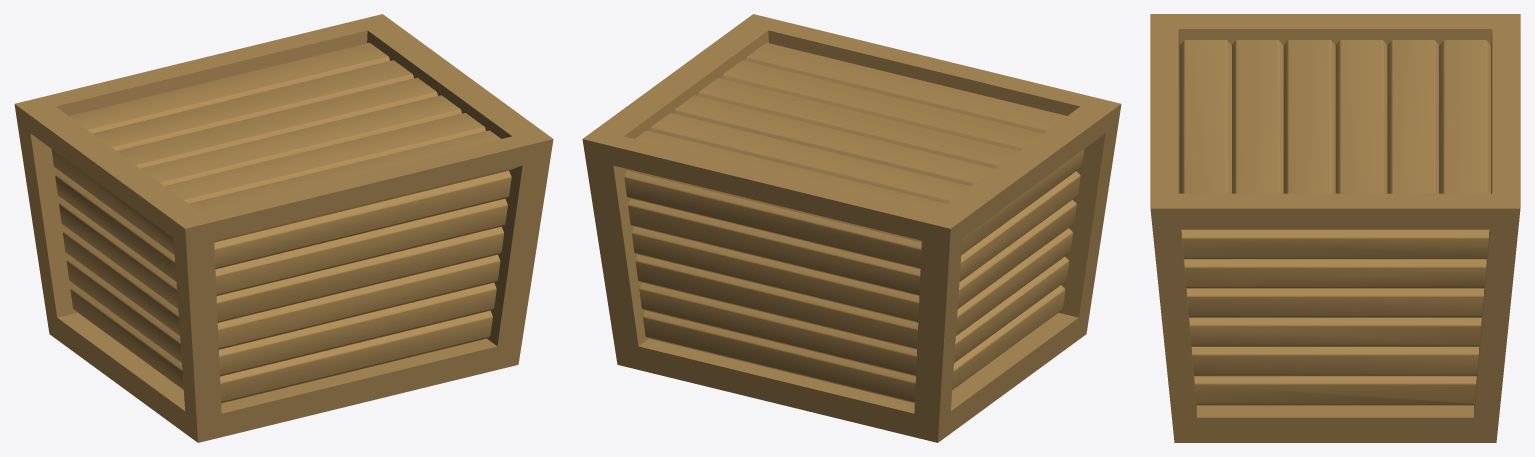
File: wooden-chest.glb
3 renders of one model, left to right at view 1: azimuth 30°, elevation 25°; view 2: azimuth 150°, elevation 25°; view 3: azimuth 270°, elevation 25°, orthographic. The views are drawn at different scales.
Visible parts, largest first — view 1: body; view 2: body; view 3: body.
Part boxes in pixels (left/top/right/bottom): body: left=14, top=14, right=553, bottom=442; body: left=582, top=14, right=1121, bottom=442; body: left=1150, top=14, right=1520, bottom=442.
Bounding box in the file's own units: 0.957 × 0.5663 × 0.769.
